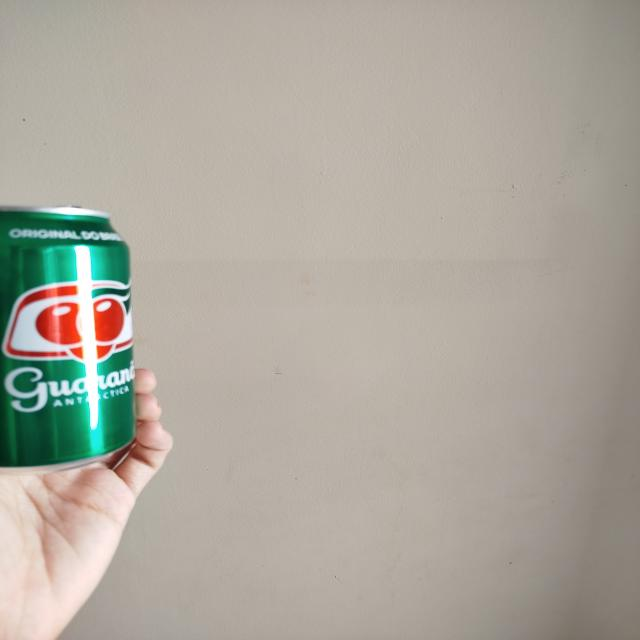Guarana: (2, 209, 138, 473)
